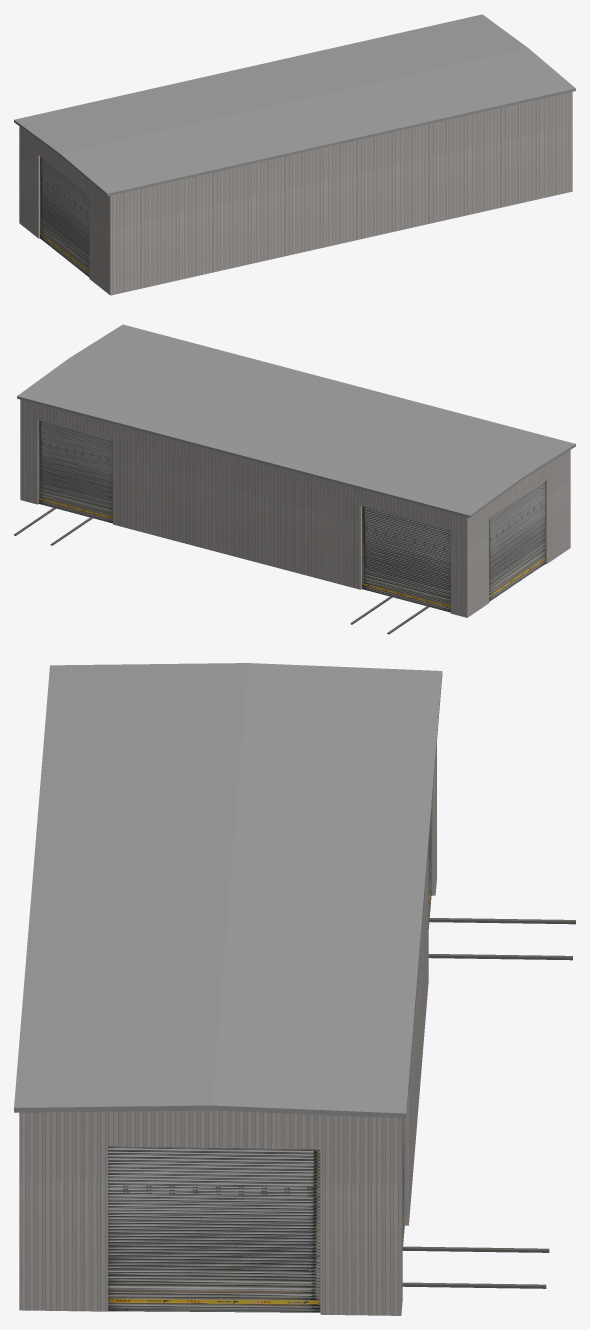
Rendered from CK-cailanjifang01-JZ.FBX.
3 views of the same model, one above another, from view 1: azimuth 30°, elevation 25°; view 2: azimuth 150°, elevation 25°; view 3: azimuth 270°, elevation 25° (orthographic). The views are drawn at different scales.
Parts seen in each view (by area): view 1: main, ding; view 2: main, ding; view 3: ding, main.
Part boxes in pixels (x1=…): main: x1=19, y1=92, x2=572, y2=295; ding: x1=14, y1=14, x2=575, y2=196; main: x1=14, y1=399, x2=570, y2=634; ding: x1=17, y1=324, x2=575, y2=517; ding: x1=14, y1=663, x2=442, y2=1118; main: x1=19, y1=743, x2=575, y2=1315.
Size of the model in its own units: 19.52 by 4.3 by 10.34.
Materials: 6 (5 with a texture image).
